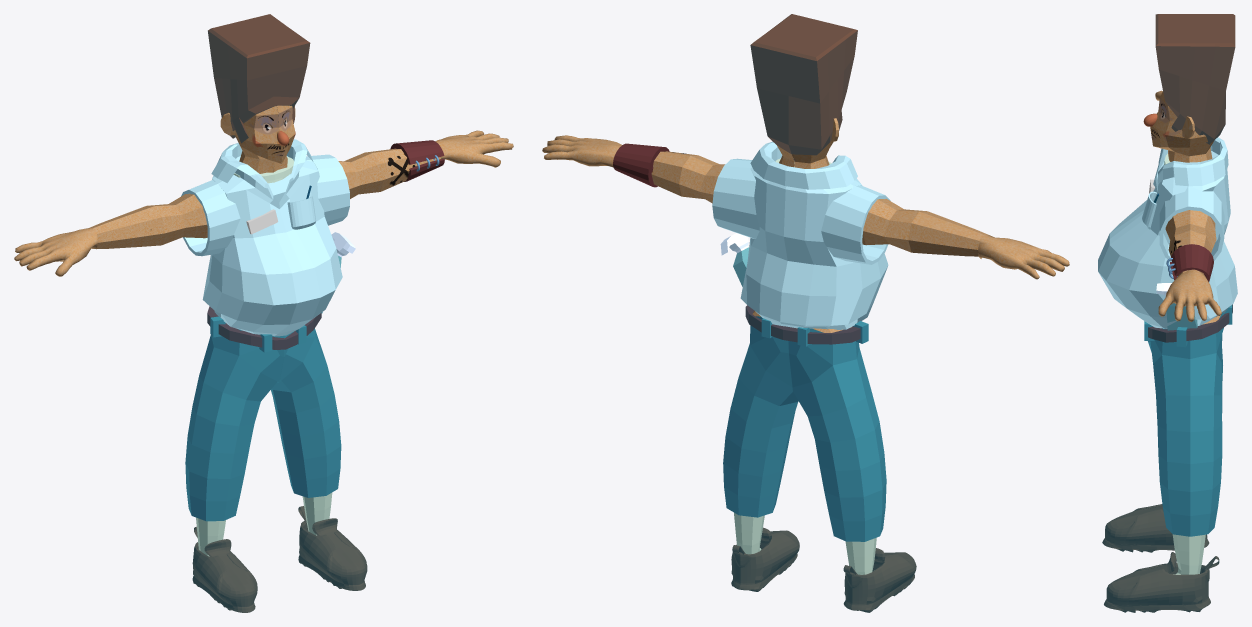
File: janitor_rigged2.fbx
3 views of the same model, side by side, from view 1: azimuth 30°, elevation 25°; view 2: azimuth 150°, elevation 25°; view 3: azimuth 270°, elevation 25° (orthographic). The views are drawn at different scales.
Parts seen in each view (by area): view 1: Janitor; view 2: Janitor; view 3: Janitor.
Part boxes in pixels (box(x1,y1,x2,y2)): Janitor: box(14, 14, 513, 612); Janitor: box(542, 14, 1069, 612); Janitor: box(1098, 14, 1237, 612).
Size of the model in its own units: 107 by 444 by 466.
13 materials, 1 textured.
